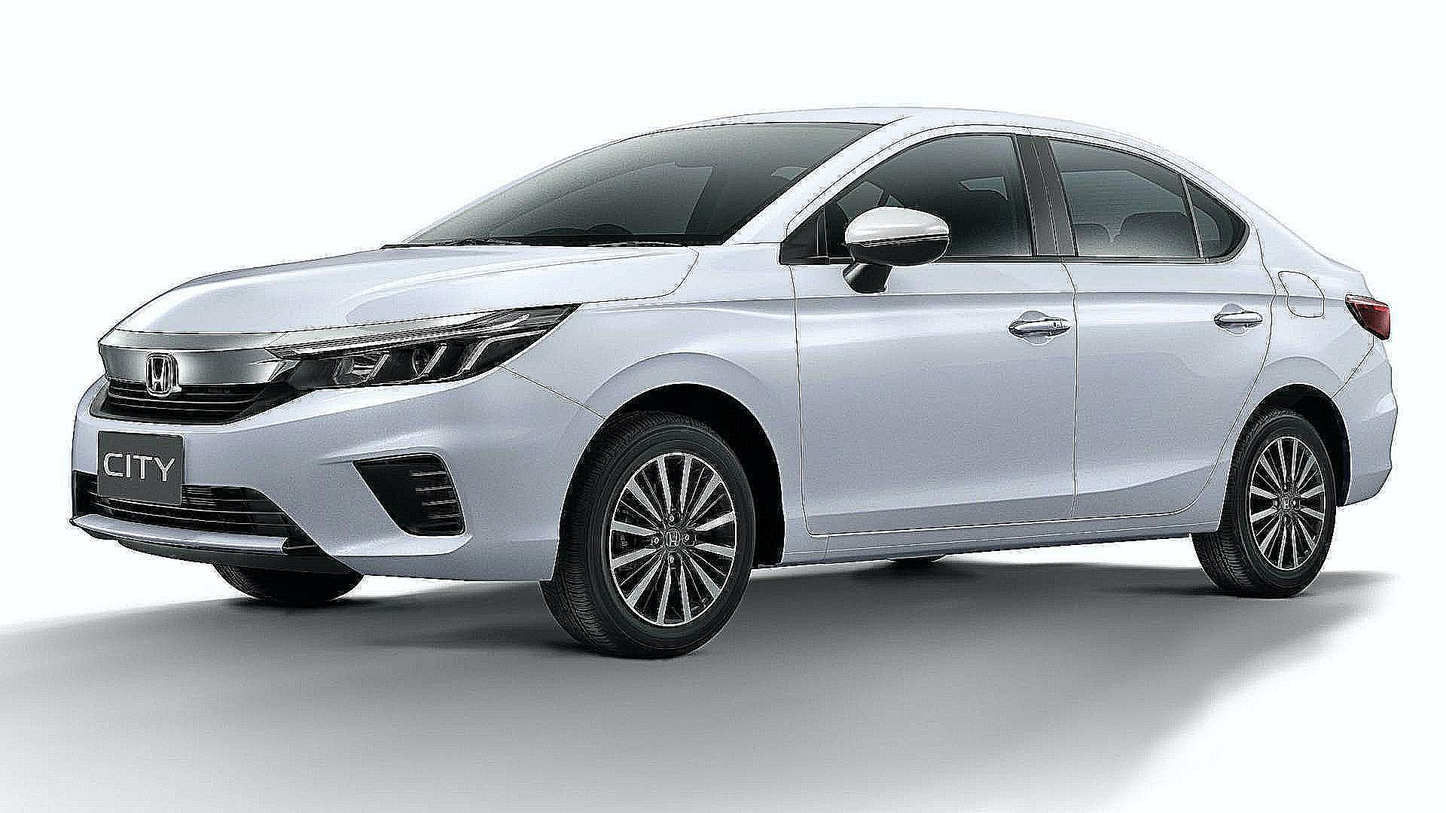Car hood: (90, 247, 701, 339)
Fender - -F-L-: (500, 222, 827, 587)
Fender - -R-L-: (1238, 211, 1376, 422)
Front bumper: (58, 366, 620, 590)
Headlight - -L-: (286, 295, 583, 389)
Passenger-s door - -F-L-: (783, 108, 1080, 532)
Passenger-s door - -R-L-: (1057, 118, 1276, 515)
Rear bumper: (1333, 343, 1419, 517)
Rear light - -L-: (1336, 282, 1414, 349)
Side bumper - -L-: (770, 496, 1238, 567)
Side mirror - -L-: (826, 186, 966, 307)
